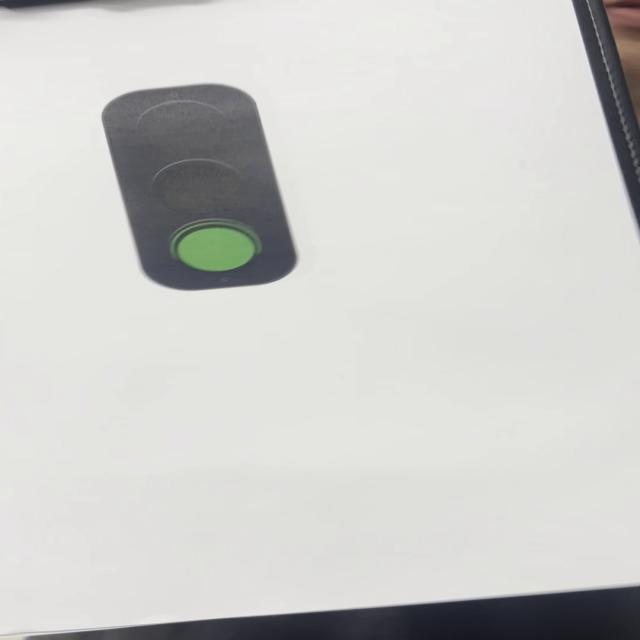green: (99, 82, 302, 293)
